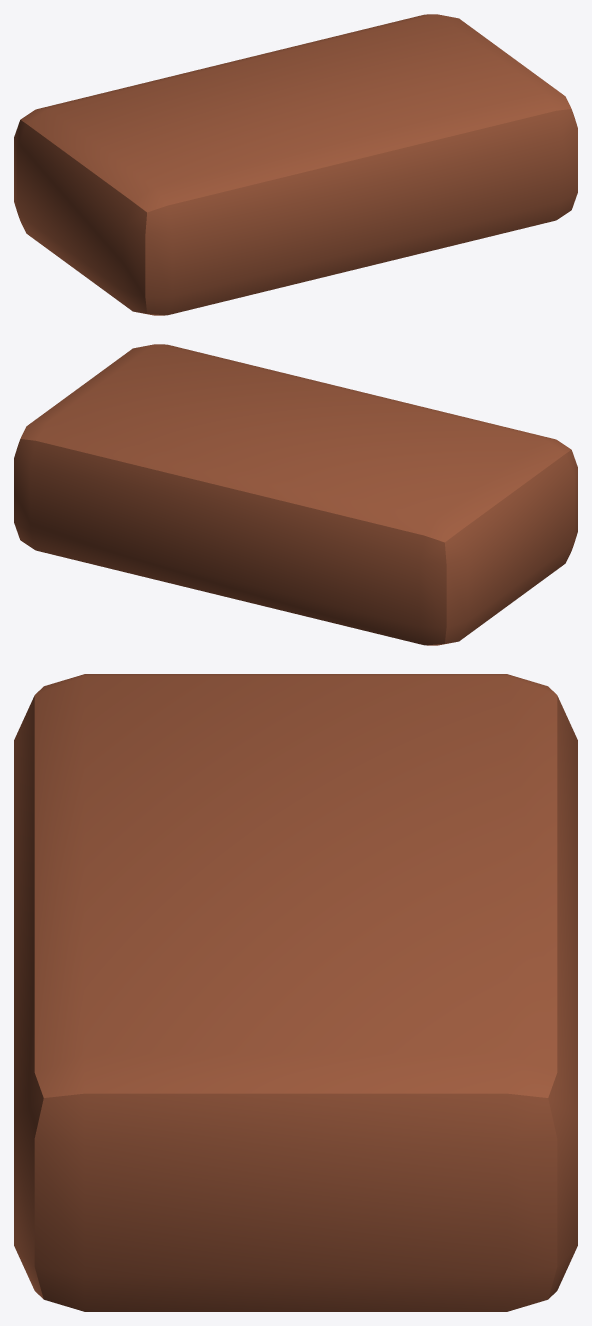
File: extractor_hood_light_button.glb
The picture shows the model from 3 angles, top to bottom: view 1: azimuth 30°, elevation 25°; view 2: azimuth 150°, elevation 25°; view 3: azimuth 270°, elevation 25°; orthographic projection. The views are drawn at different scales.
Parts seen in each view (by area): view 1: extractor_hood_light_button_x; view 2: extractor_hood_light_button_x; view 3: extractor_hood_light_button_x.
Boxes of the visible parts, box(x1,y1,x2,y2) form: extractor_hood_light_button_x: box(14, 14, 577, 315); extractor_hood_light_button_x: box(14, 344, 577, 645); extractor_hood_light_button_x: box(14, 674, 577, 1311).
Size of the model in its own units: 0.022 by 0.006 by 0.012.
